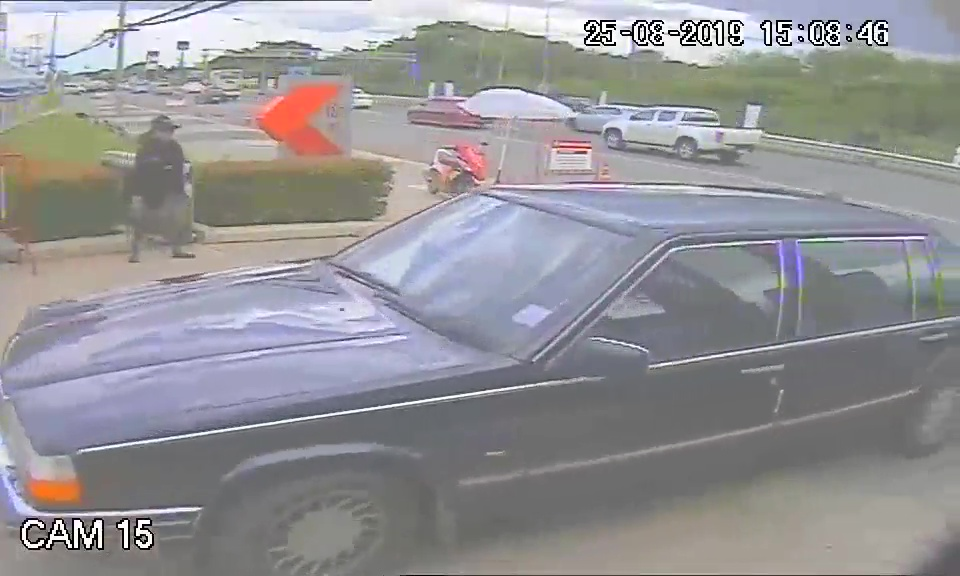sedan: (8, 180, 790, 569)
